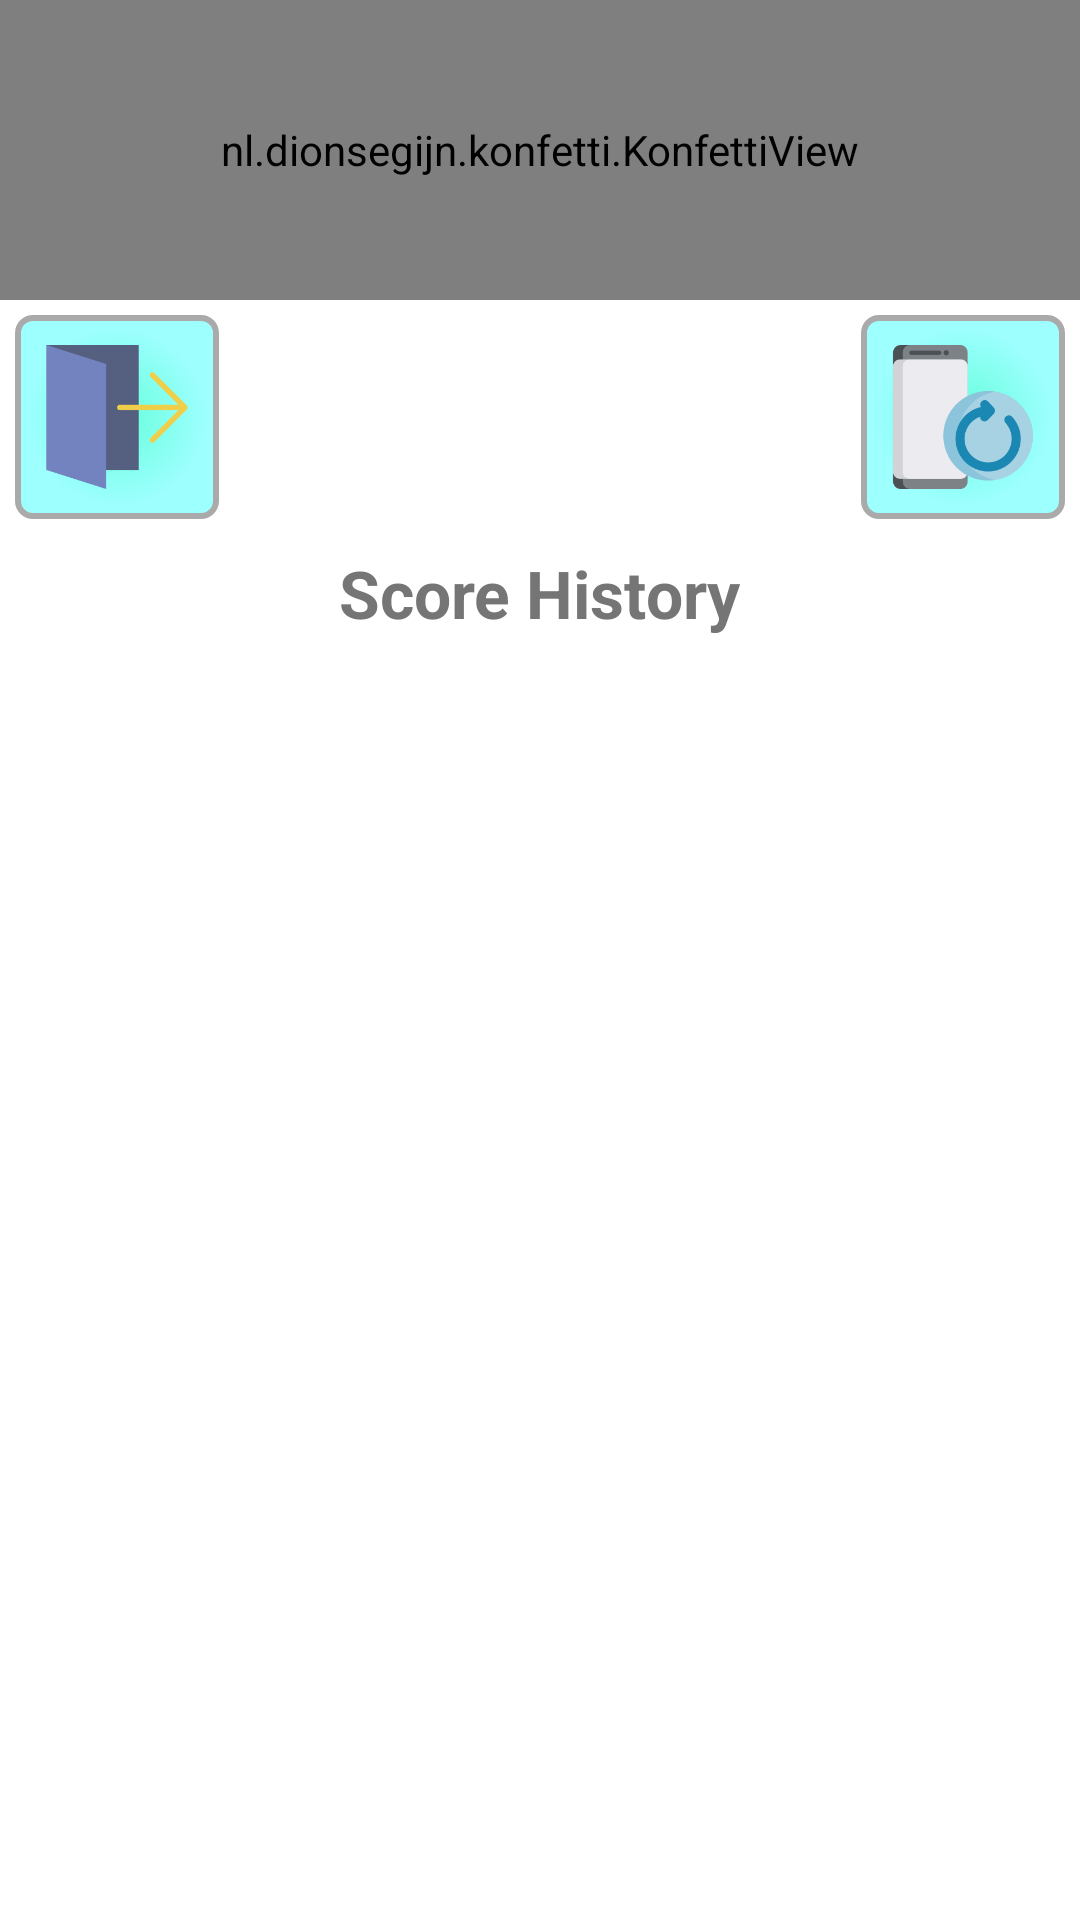

Point at icon controls on the screen. Image size 1080 x 1920, points as [x,y].
exit: [117,417]
restart: [963,417]
